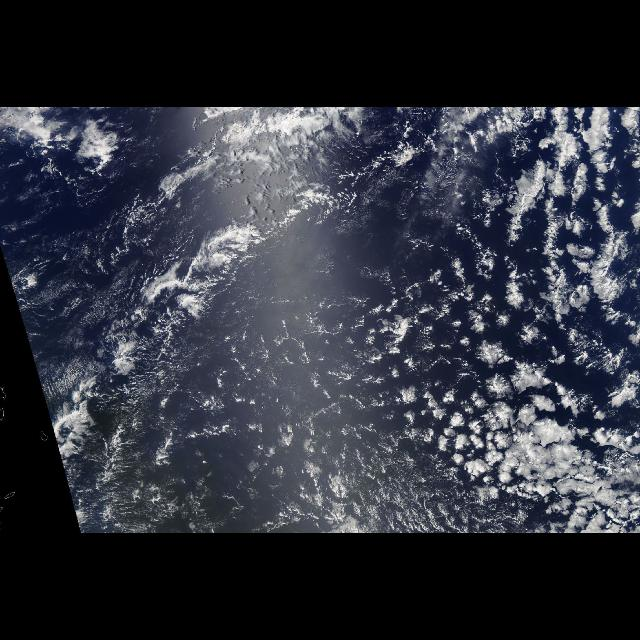Fish: (34, 216, 254, 480)
Flower: (410, 107, 640, 533)
Gravel: (183, 304, 579, 532)
Sugar: (334, 440, 456, 532)
